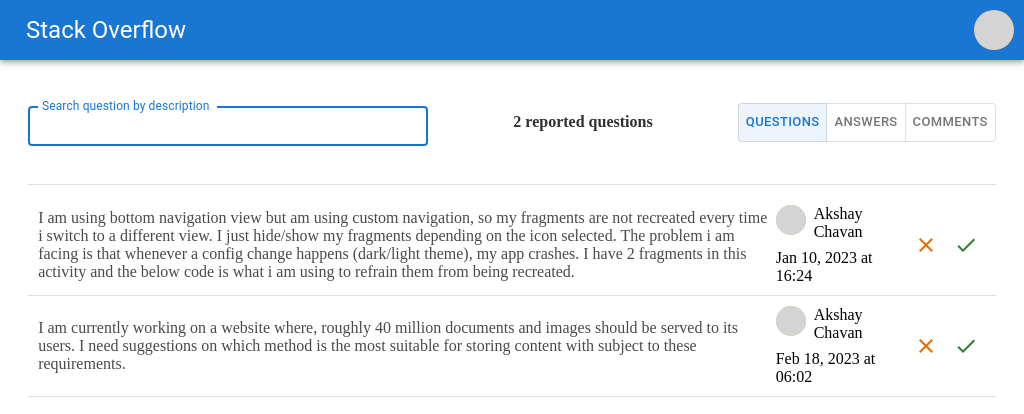
Moderator Component › allows deleting reported questions
The image size is (1024, 414).
What coordinates should you click on to do the following:
click the button named "Delete" next to "Jan 10, 2023 at 16:24"
I would click on:
 (926, 245)
Its box is [906,225,946,265].
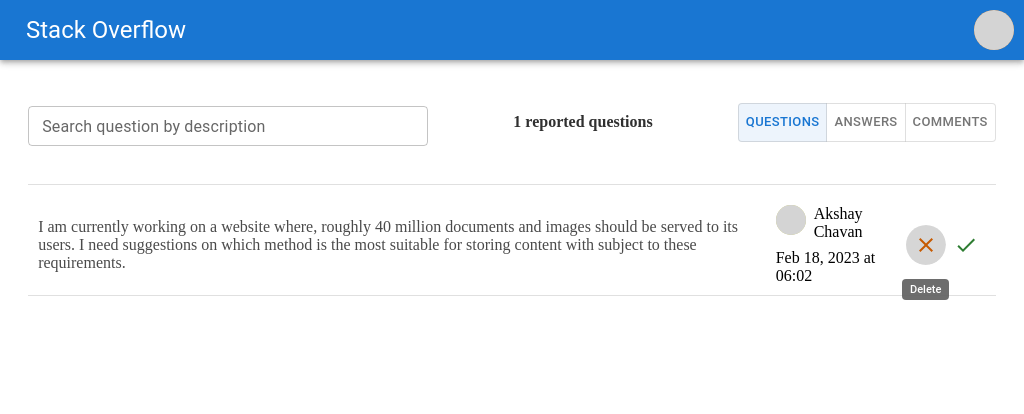
expect the number of elements with class "icons" is 1: met, box [906,225,986,265]
